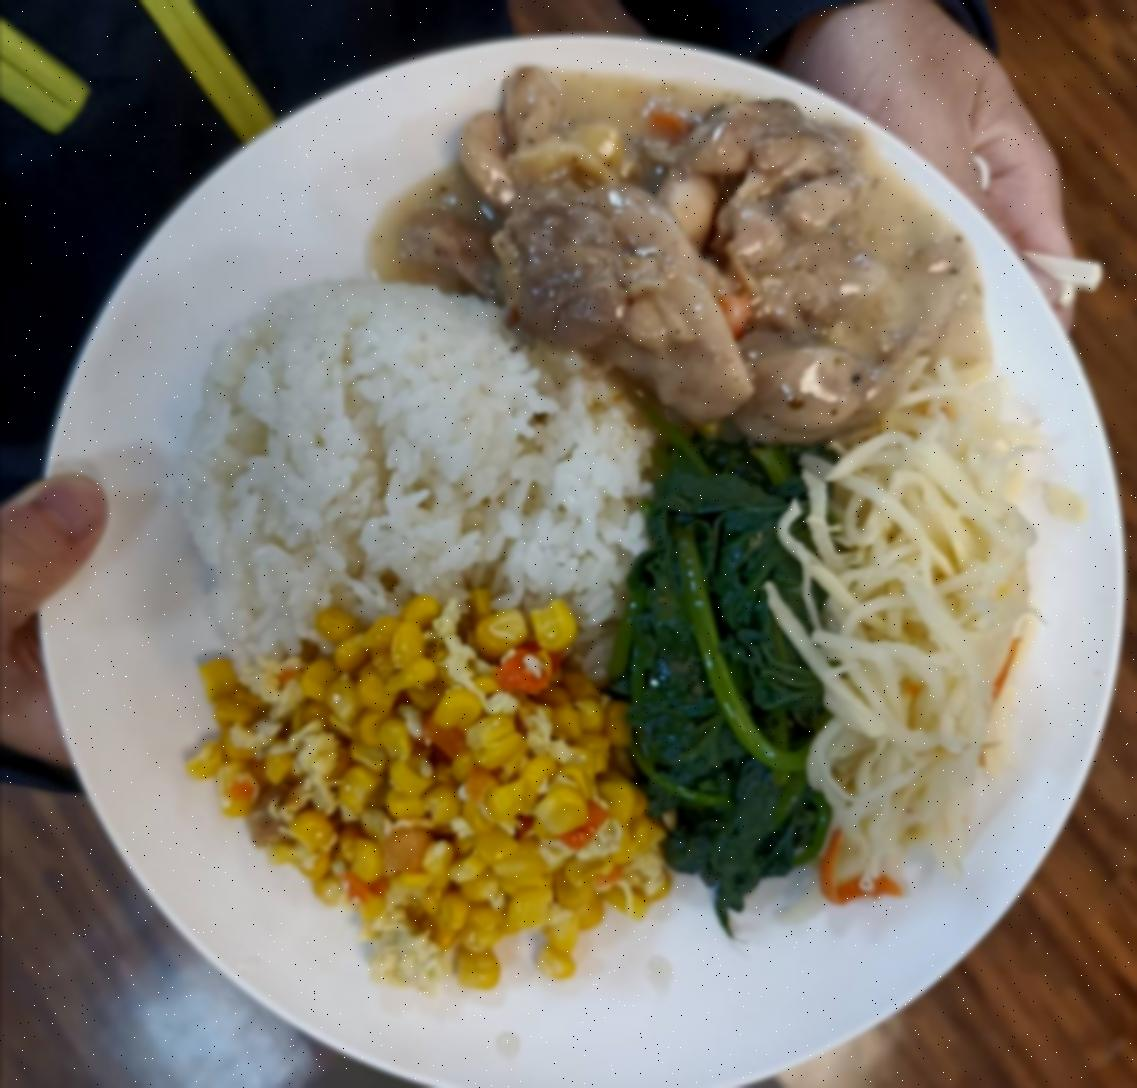big fried chicken leg: (26, 30, 1124, 1088)
big herbal chicken leg: (184, 261, 664, 662)
braised fish fillet: (187, 586, 660, 1001), (804, 378, 1054, 899), (620, 438, 814, 903)
braised pork: (369, 66, 996, 443)
